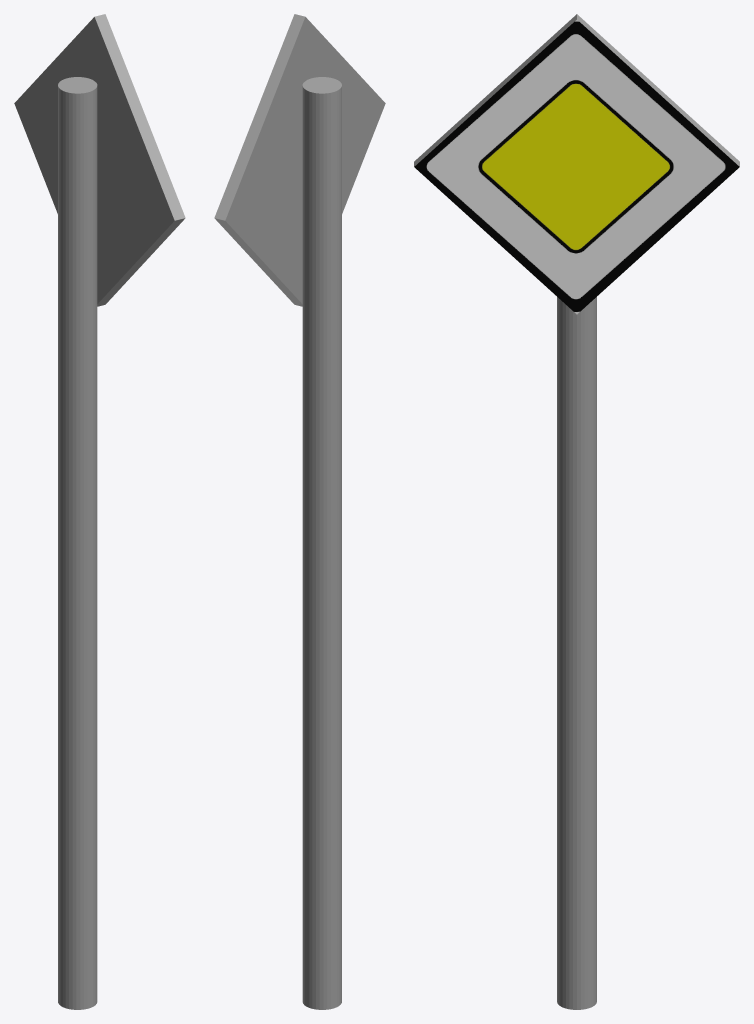
The model's file is ЗнакГлавнаяДорога.fbx.
3 views of the same model, side by side, from view 1: azimuth 30°, elevation 25°; view 2: azimuth 150°, elevation 25°; view 3: azimuth 270°, elevation 25° (orthographic).
Parts seen in each view (by area): view 1: Знак; view 2: Знак; view 3: Знак.
Part boxes in pixels (x1,y1,x2,y2): Знак: [14, 14, 185, 1009]; Знак: [214, 14, 385, 1009]; Знак: [414, 14, 739, 1009].
Bounding box in the file's own units: 339 × 54.79 × 1144.
2 materials, 1 textured.
